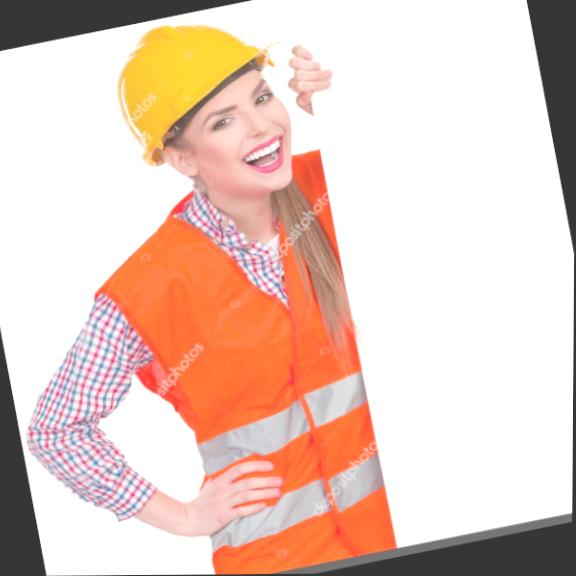safety_vest: (85, 157, 389, 573)
